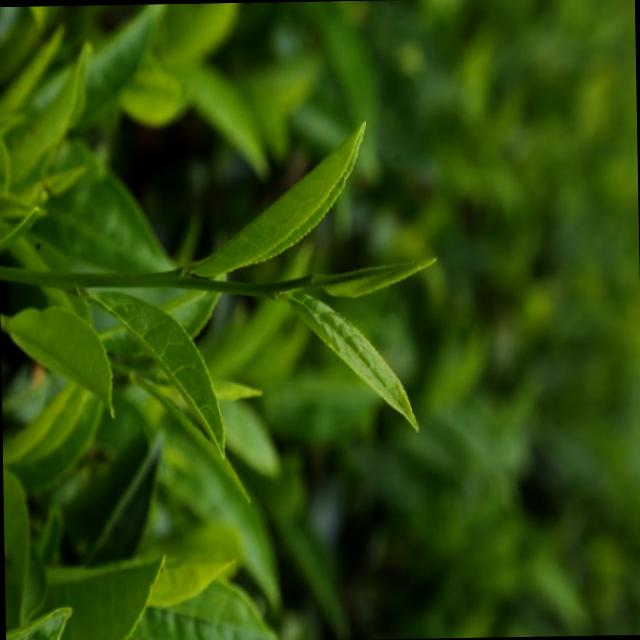Stem: (259, 282, 274, 295)
